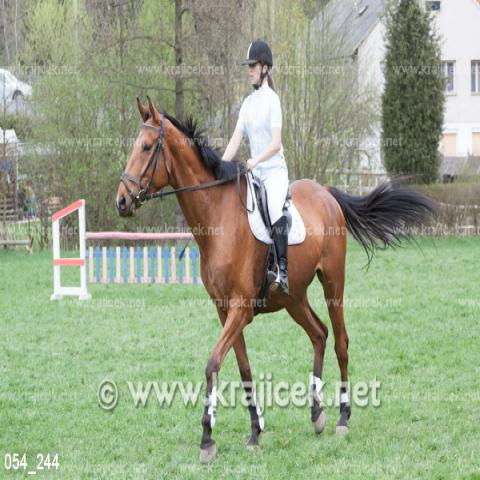car: (2, 66, 36, 120)
